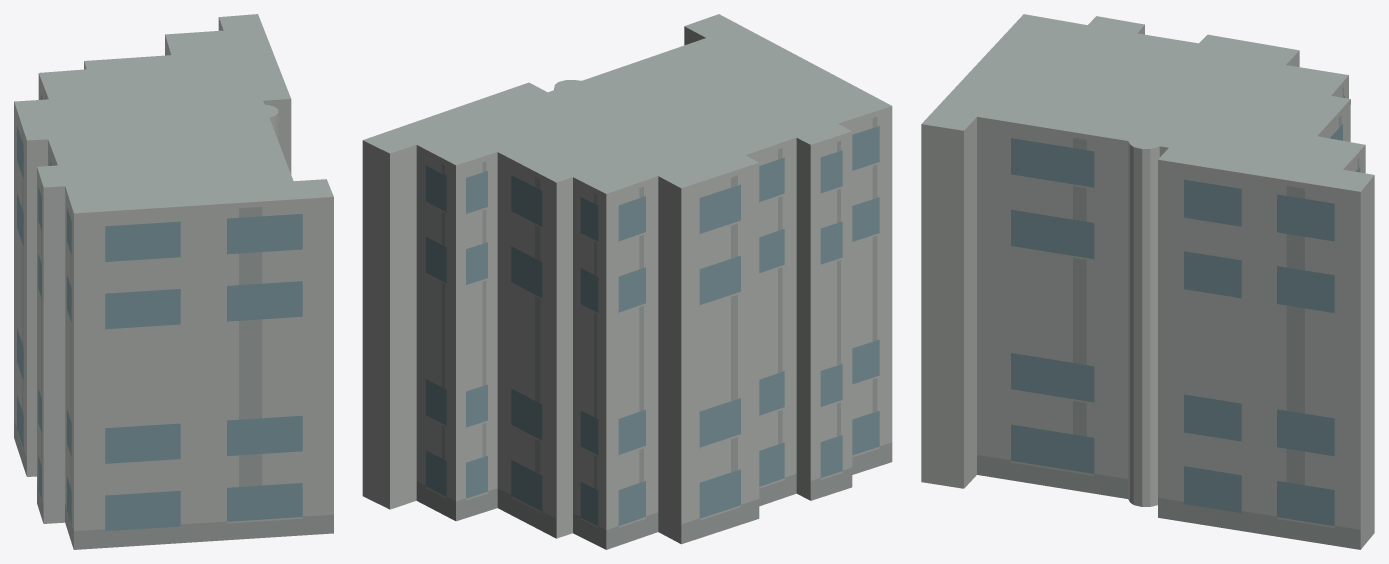
The model's file is survey-upis-32813104.glb.
3 views of the same model, side by side, from view 1: azimuth 30°, elevation 25°; view 2: azimuth 150°, elevation 25°; view 3: azimuth 270°, elevation 25° (orthographic). The views are drawn at different scales.
Parts seen in each view (by area): view 1: survey-upis-32813104.tmp; view 2: survey-upis-32813104.tmp; view 3: survey-upis-32813104.tmp.
Boxes of the visible parts, x1,y1,x2,y2 form: survey-upis-32813104.tmp: (14, 14, 333, 549); survey-upis-32813104.tmp: (362, 14, 892, 549); survey-upis-32813104.tmp: (921, 14, 1374, 549).
Size of the model in its own units: 16.52 by 15.5 by 17.79.
